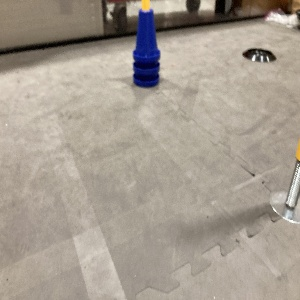Blue_3: (130, 5, 162, 89)
